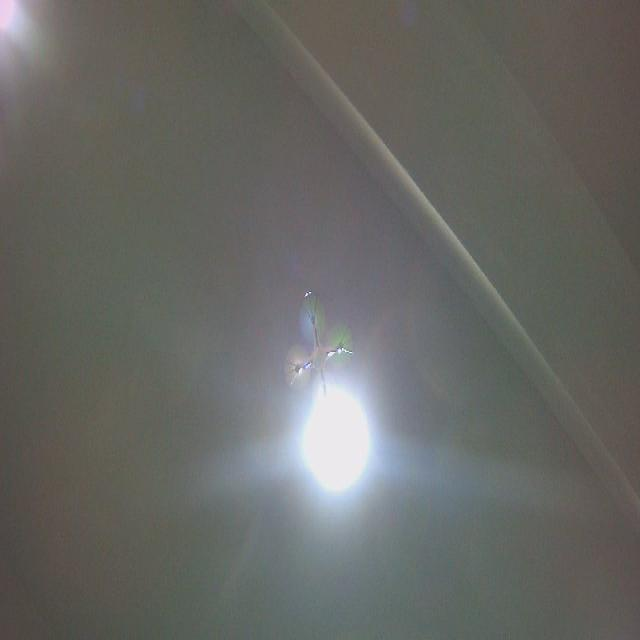drone: (281, 287, 357, 429)
